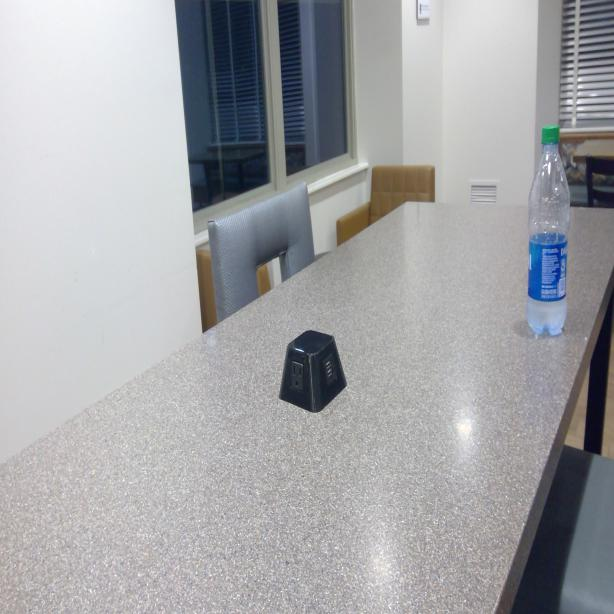typeb: (289, 360, 304, 392)
